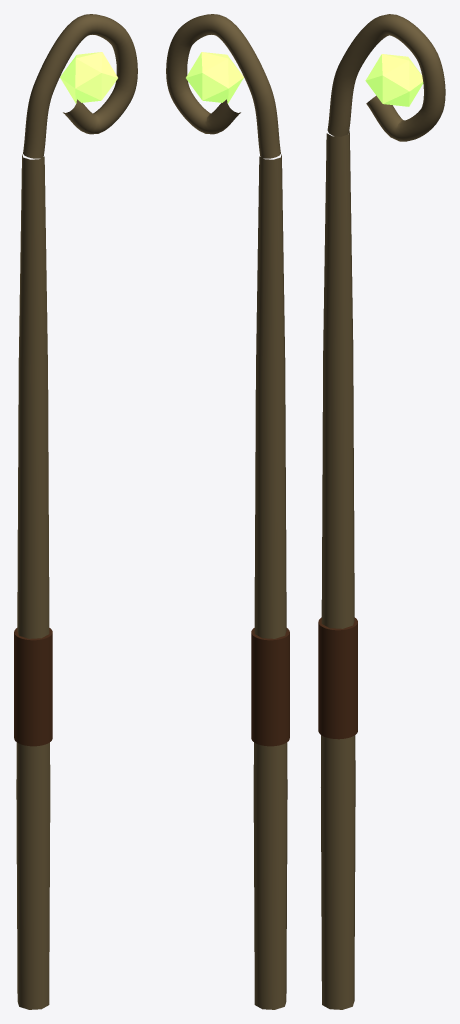
File: willow_staff.glb
3 views of the same model, side by side, from view 1: azimuth 30°, elevation 25°; view 2: azimuth 150°, elevation 25°; view 3: azimuth 330°, elevation 25° (orthographic). The views are drawn at different scales.
Visible parts, largest first — view 1: ws_shaft, ws_curl, ws_grip, ws_gem; view 2: ws_shaft, ws_curl, ws_grip, ws_gem; view 3: ws_shaft, ws_curl, ws_grip, ws_gem.
Part boxes in pixels (<box>): ws_shaft: <box>16,154,50,1009</box>; ws_curl: <box>23,14,137,158</box>; ws_grip: <box>14,628,52,746</box>; ws_gem: <box>60,52,117,103</box>; ws_shaft: <box>253,154,287,1009</box>; ws_curl: <box>166,14,280,158</box>; ws_grip: <box>251,628,289,746</box>; ws_gem: <box>186,52,243,103</box>; ws_shaft: <box>321,131,355,1009</box>; ws_curl: <box>327,14,445,141</box>; ws_grip: <box>318,617,357,739</box>; ws_gem: <box>365,54,423,106</box>.
Size of the model in its own units: 0.2365 by 1.84 by 0.0851.
